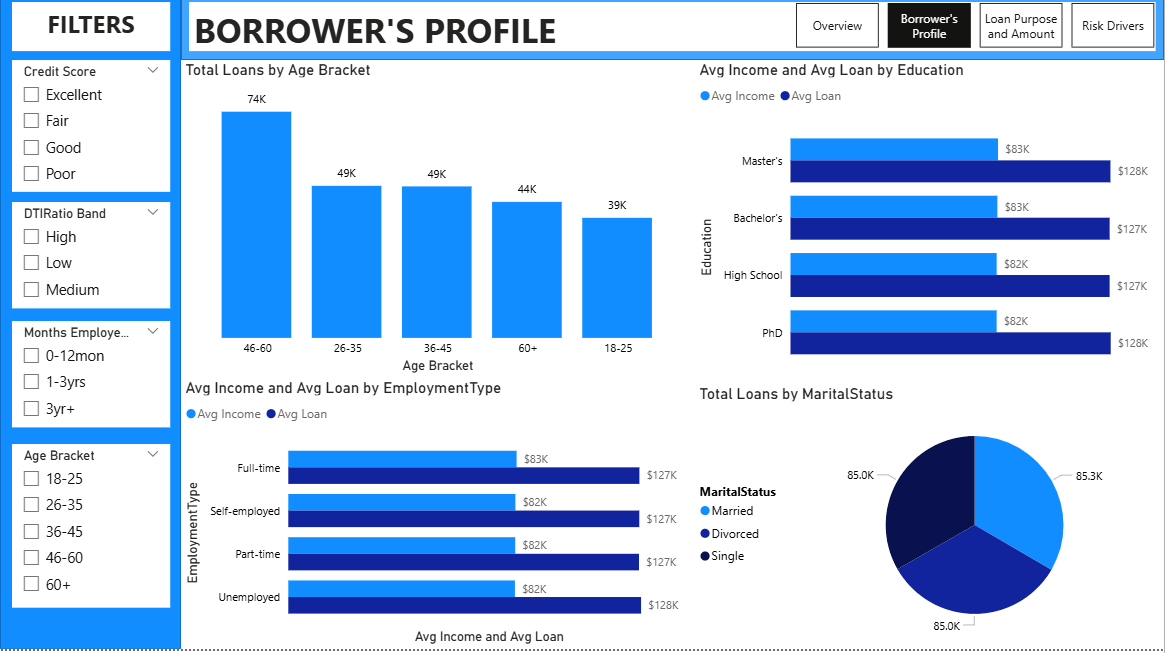

The page's visual inventory and layout, read from the dashboard file:
{"tool":"powerbi","page":{"name":"Borrower's Profile ","canvas":[1280,720],"ordinal":1},"visuals":[{"type":"shape","box":[199,0,1081,72.6],"z":0},{"type":"textbox","box":[207.8,8.8,1063.4,53.9],"z":1000},{"type":"shape","box":[0,0,199,720.3],"z":2000},{"type":"textbox","box":[13.2,8.8,173.7,53.9],"z":3000},{"type":"clusteredColumnChart","fields":{"Category":["Loan_default.Age Bracket "],"Y":["Loan_default.Total Loans"]},"box":[199,72.6,565.2,348.6],"z":4000},{"type":"clusteredBarChart","title":"Avg Income and Avg Loan by Education","fields":{"Category":["Education.Education"],"Y":["Loan_default.Avg Income","Loan_default.Avg Loan"]},"box":[764.3,72.6,515.7,356.3],"z":5000},{"type":"clusteredBarChart","fields":{"Y":["Loan_default.Avg Income","Loan_default.Avg Loan"],"Category":["EmploymentType.EmploymentType"]},"box":[199,422,565,298],"z":6000},{"type":"pieChart","fields":{"Y":["Loan_default.Total Loans"],"Category":["MaritalStatus.MaritalStatus"]},"box":[764,429,516,291],"z":7000},{"type":"slicer","fields":{"Values":["Loan_default.Credit Score "]},"box":[13.2,72.6,173.7,145.2],"z":8000},{"type":"slicer","fields":{"Values":["Loan_default.DTIRatio Band"]},"box":[13.2,228.7,173.7,116.6],"z":9000},{"type":"slicer","fields":{"Values":["Loan_default.Months Employed Band"]},"box":[13.2,359.6,173.7,116.6],"z":10000},{"type":"slicer","fields":{"Values":["Loan_default.Age Bracket "]},"box":[13.2,494.8,173.7,180.3],"z":11000},{"type":"pageNavigator","box":[875,10.4,397.2,49.5],"z":12000}]}

Visuals, with their boxes in screenshot pixels (x1, y1, x2, y2), scaled from the page's 1280x720 canvas onto the 1167x653 screenshot:
shape: rect(181, 0, 1166, 66)
textbox: rect(189, 8, 1159, 57)
shape: rect(0, 0, 181, 652)
textbox: rect(12, 8, 170, 57)
clusteredColumnChart - Loan_default.Age Bracket  x Loan_default.Total Loans: rect(181, 66, 697, 382)
"Avg Income and Avg Loan by Education" clusteredBarChart: rect(697, 66, 1166, 389)
clusteredBarChart - Loan_default.Avg Income x Loan_default.Avg Loan: rect(181, 383, 697, 652)
pieChart - Loan_default.Total Loans x MaritalStatus.MaritalStatus: rect(697, 389, 1166, 652)
slicer - Loan_default.Credit Score : rect(12, 66, 170, 198)
slicer - Loan_default.DTIRatio Band: rect(12, 207, 170, 313)
slicer - Loan_default.Months Employed Band: rect(12, 326, 170, 432)
slicer - Loan_default.Age Bracket : rect(12, 449, 170, 612)
pageNavigator: rect(798, 9, 1160, 54)
